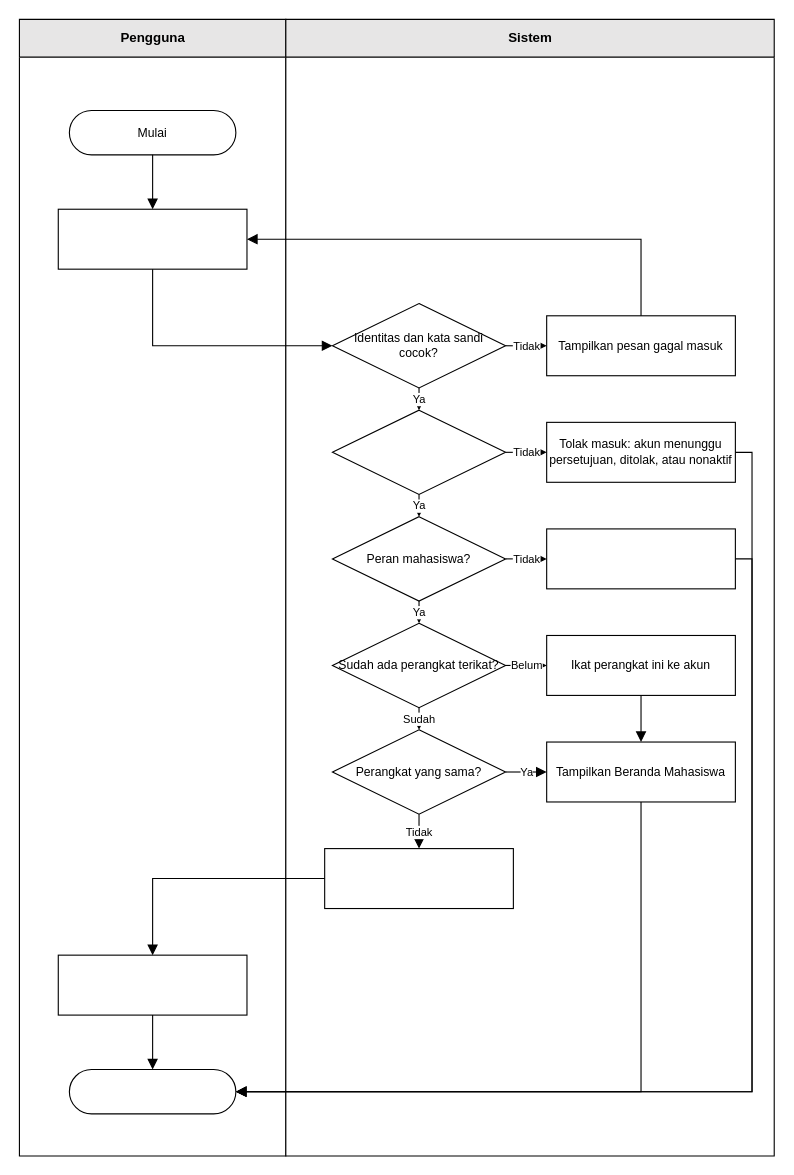
This 794x1175 diagram has some shape labels left out. The shapes that lost their labels are listed below. From the top down, each one's centre as x and y in pixels, then its label:
At pixel 152 238: "Isi NIM / NIDN / email dan kata sandi".
At pixel 418 452: "Status akun Aktif?".
At pixel 640 558: "Arahkan ke dasbor Admin atau Dosen".
At pixel 418 878: "Beri tanda: presensi QR dari perangkat ini akan ditolak".
At pixel 152 984: "Ajukan reset perangkat dari menu Profil".
At pixel 152 1091: "Selesai".
